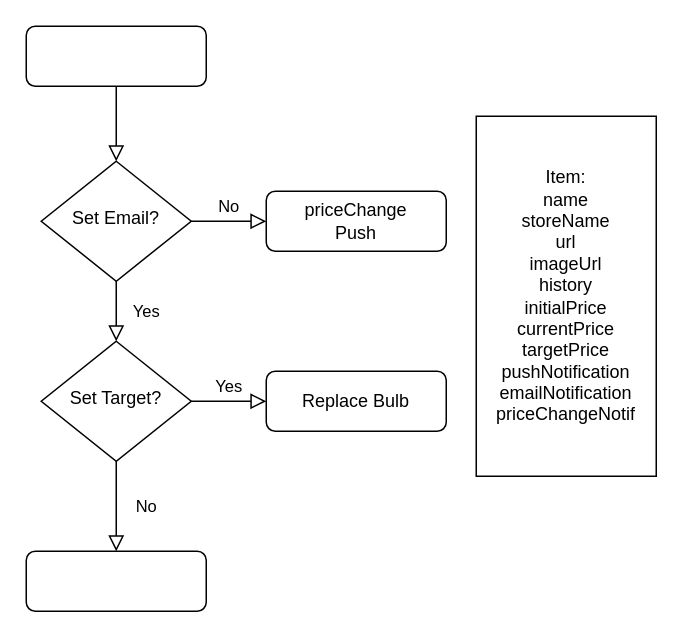
The diagram is 683 pixels wide and 638 high, and some of its shapes have lost their labels. Each missing label, with the centre of its shape:
Repair Lamp: (x=115, y=580)
Track Product: (x=115, y=55)
